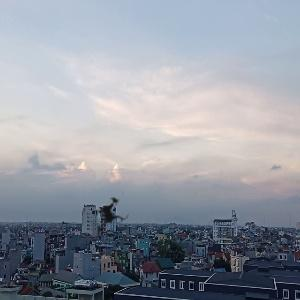drone: (74, 180, 149, 255)
